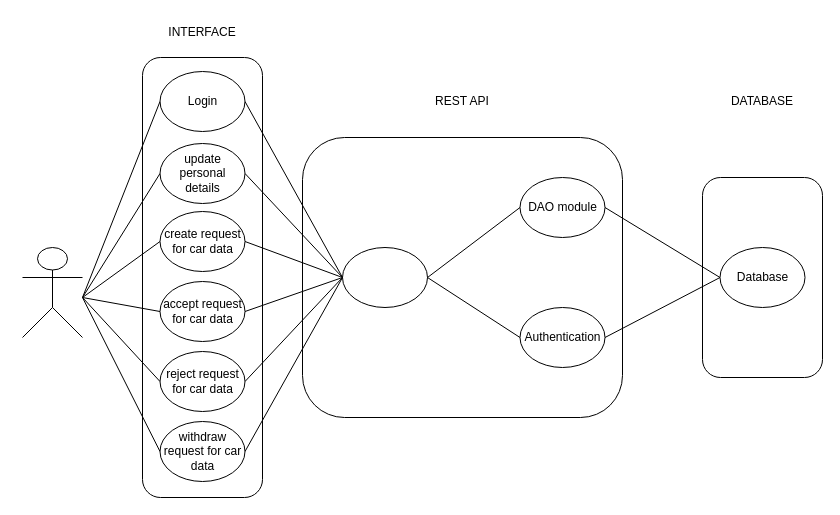
Some shapes in this 840 by 515 pixel diagram are drawn without their labels. The shapes that lost their labels are listed below. From the top down, each one's centre as x and y in pixels, then its label:
At point 52,292: "General User".
At point 385,277: "Request Handler".
